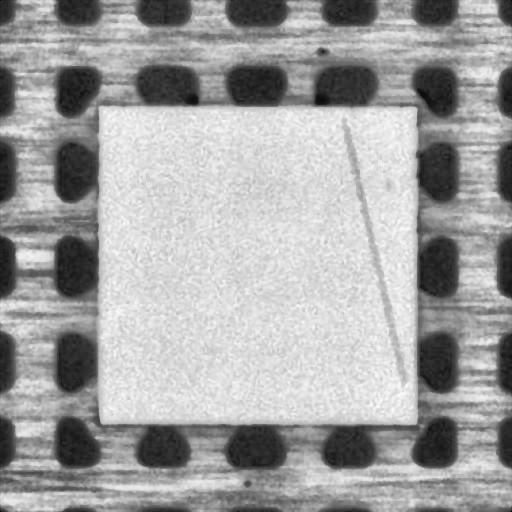DIE_CRACK: (342, 120, 402, 384)
